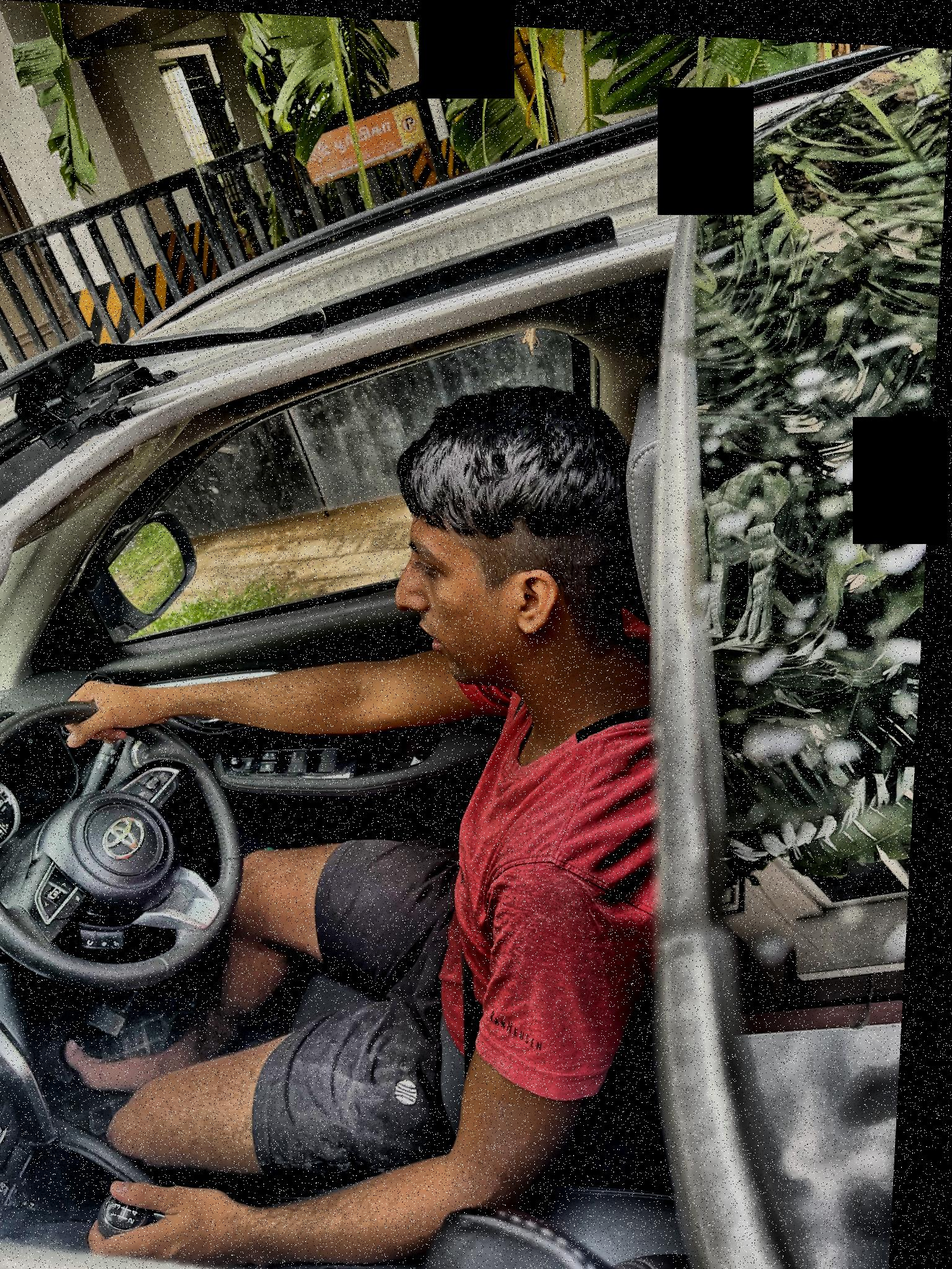seatbelt: (429, 936, 511, 1148)
